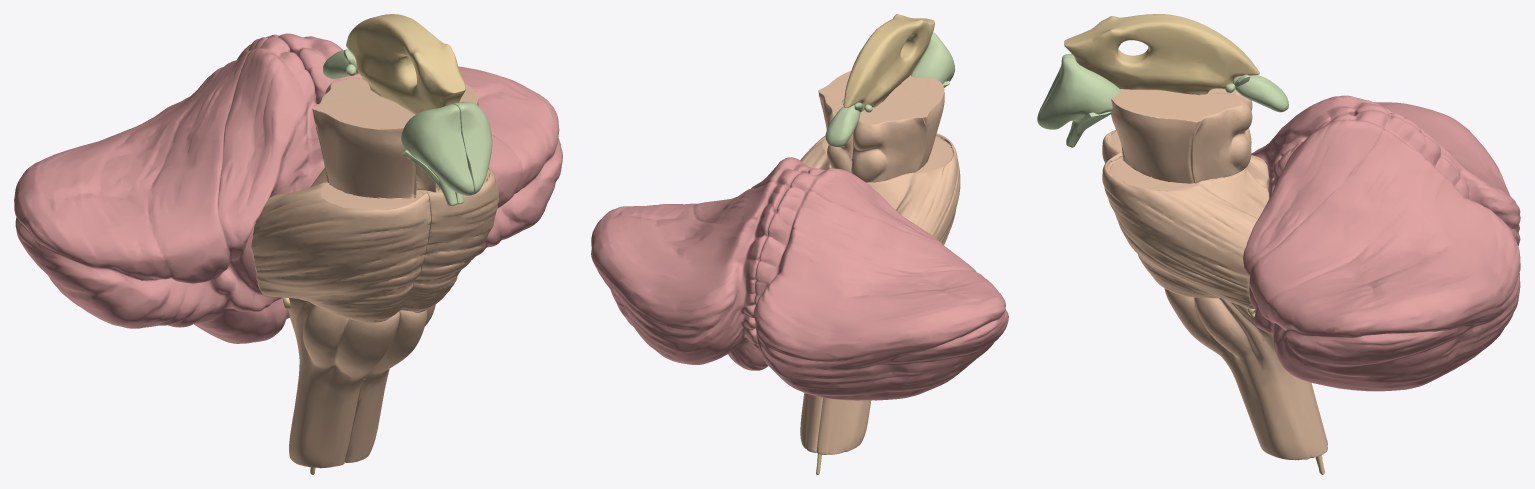
Rendered from nervous-central.v1.glb.
The picture shows the model from 3 angles, left to right: view 1: azimuth 30°, elevation 25°; view 2: azimuth 150°, elevation 25°; view 3: azimuth 270°, elevation 25°; orthographic projection. The views are drawn at different scales.
Parts seen in each view (by area): view 1: cerebellum, pons, medulla_oblongata, midbrain, third_ventricle, hypothalamus; view 2: cerebellum, midbrain, pons, third_ventricle, medulla_oblongata, hypothalamus, pineal_body; view 3: cerebellum, pons, midbrain, medulla_oblongata, third_ventricle, hypothalamus, pineal_body.
Part boxes in pixels (x1=…): cerebellum: x1=14, y1=33, x2=562, y2=343; pons: x1=251, y1=165, x2=499, y2=322; medulla_oblongata: x1=288, y1=298, x2=435, y2=468; midbrain: x1=312, y1=77, x2=478, y2=198; third_ventricle: x1=346, y1=14, x2=465, y2=114; hypothalamus: x1=401, y1=101, x2=492, y2=205; cerebellum: x1=591, y1=157, x2=1008, y2=400; midbrain: x1=818, y1=71, x2=944, y2=182; pons: x1=800, y1=133, x2=960, y2=245; third_ventricle: x1=843, y1=14, x2=934, y2=111; medulla_oblongata: x1=800, y1=393, x2=871, y2=454; hypothalamus: x1=911, y1=32, x2=954, y2=84; pineal_body: x1=825, y1=105, x2=860, y2=146; cerebellum: x1=1243, y1=95, x2=1520, y2=391; pons: x1=1102, y1=130, x2=1269, y2=308; midbrain: x1=1111, y1=81, x2=1252, y2=183; medulla_oblongata: x1=1164, y1=288, x2=1327, y2=460; third_ventricle: x1=1064, y1=14, x2=1259, y2=94; hypothalamus: x1=1037, y1=53, x2=1121, y2=146; pineal_body: x1=1232, y1=75, x2=1288, y2=112.
Bounding box in the file's own units: 0.1065 × 0.1021 × 0.098.
